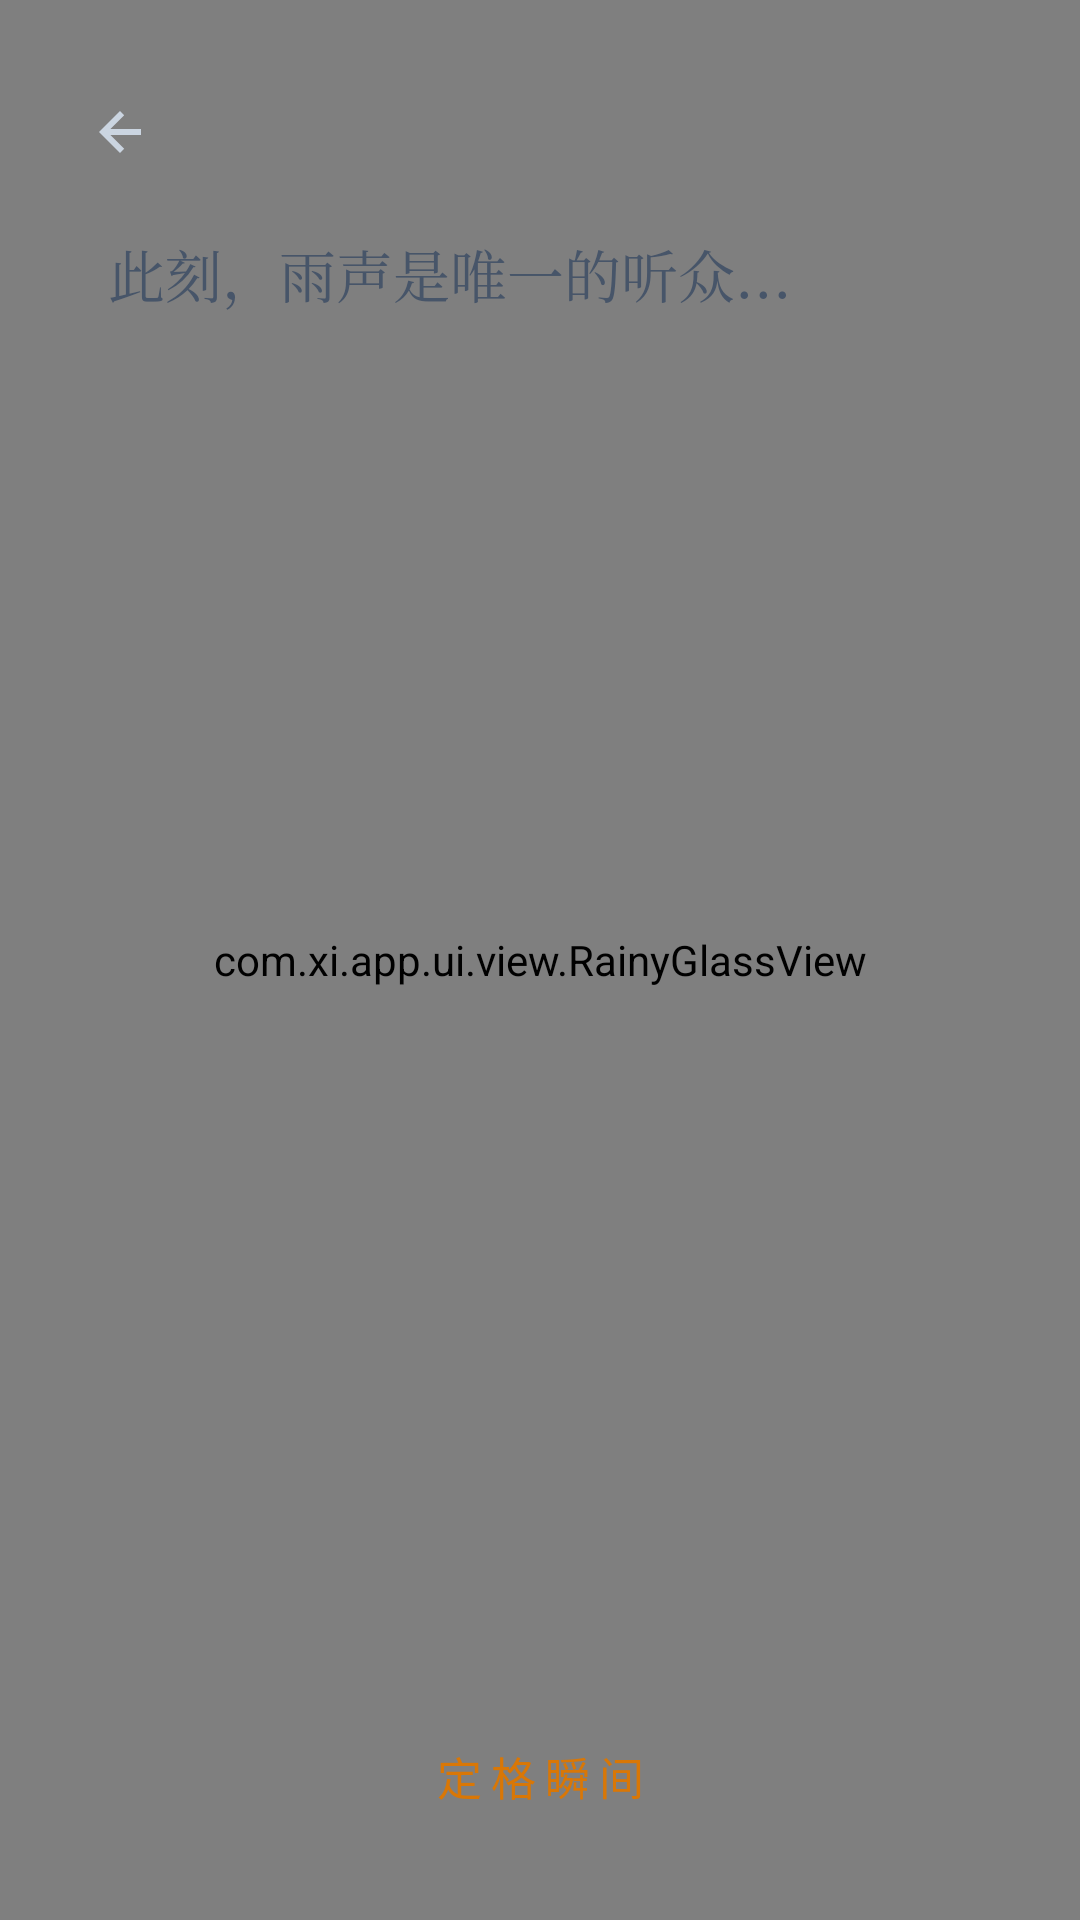

Named icons in this screenshot (1080 × 1920) and their bounding boxes, (x1, y1, x2, y2):
返回: (99, 111, 141, 153)
